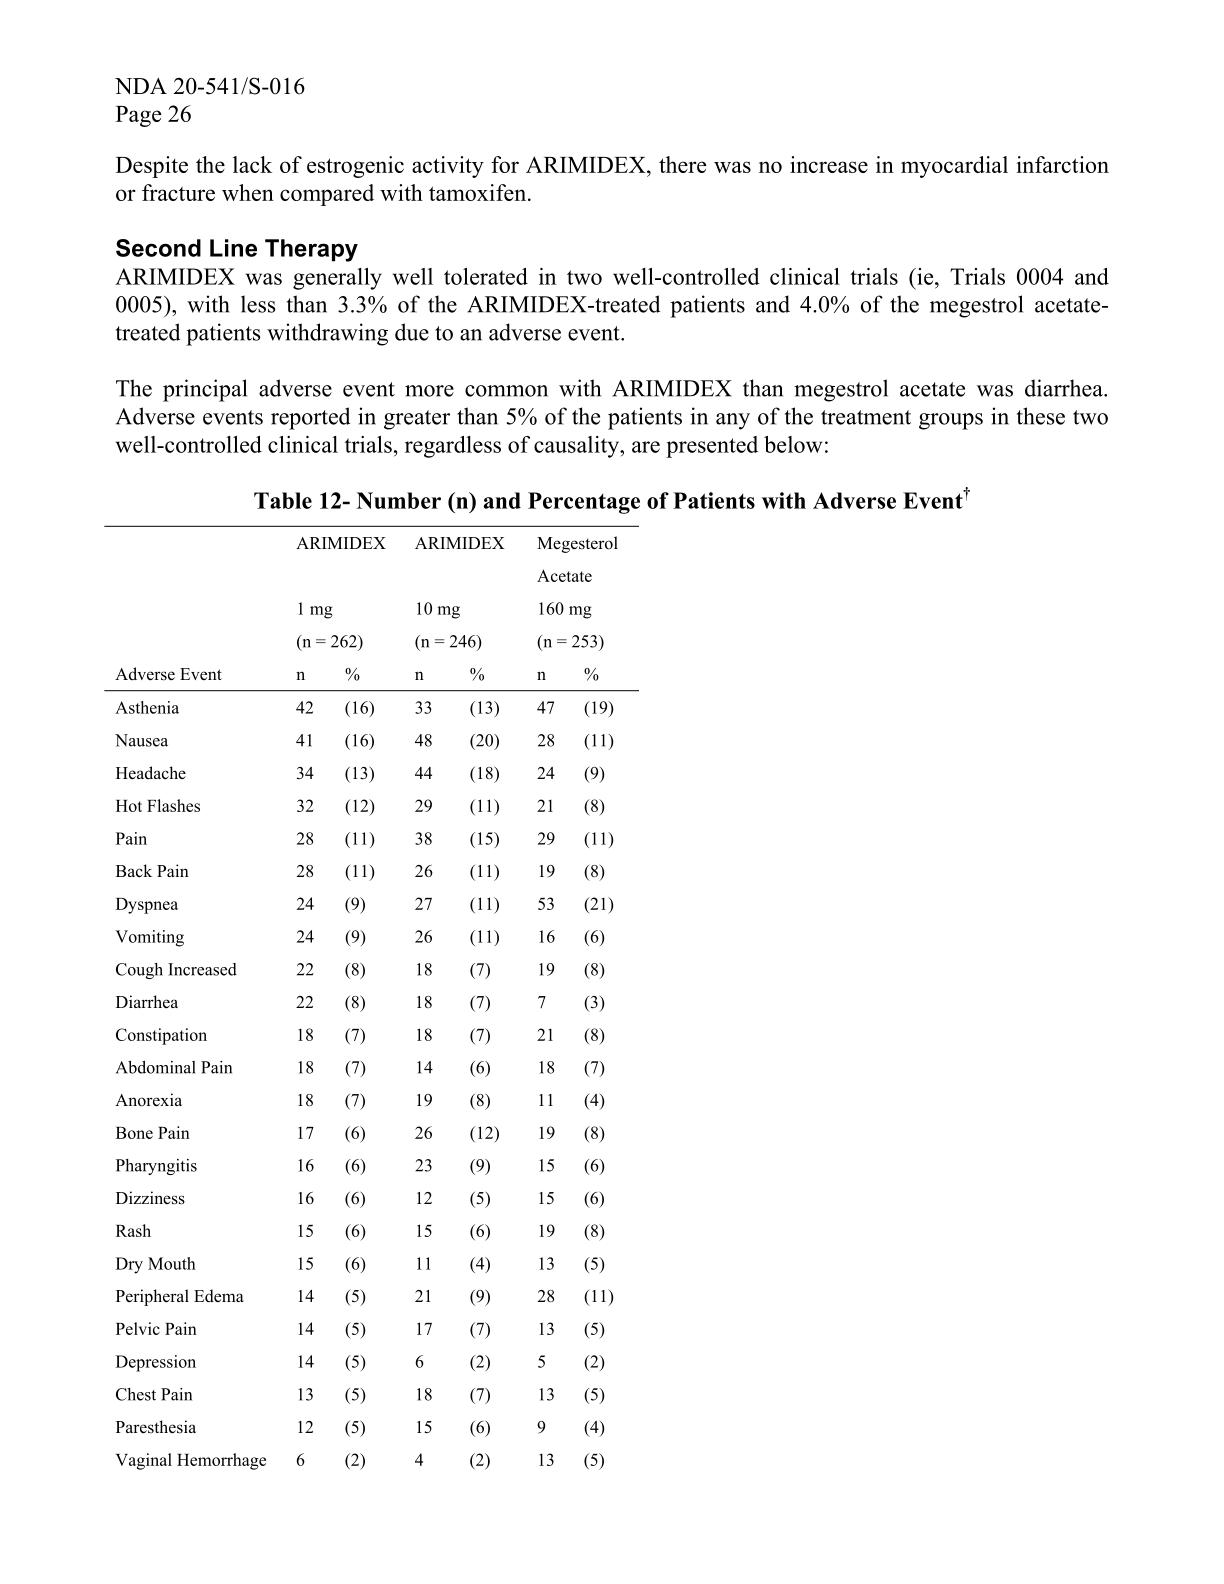partial_lined: (102, 521, 642, 1473)
